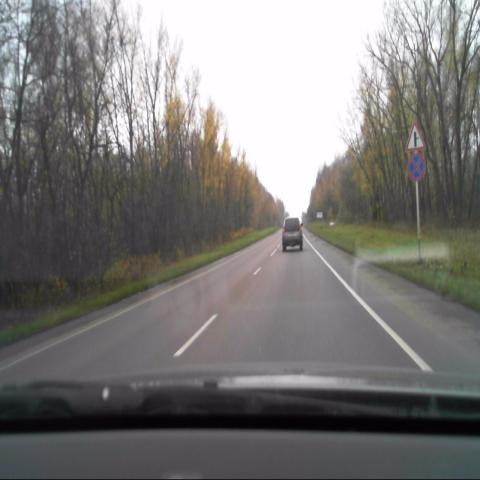2_3_2: (405, 121, 424, 151)
